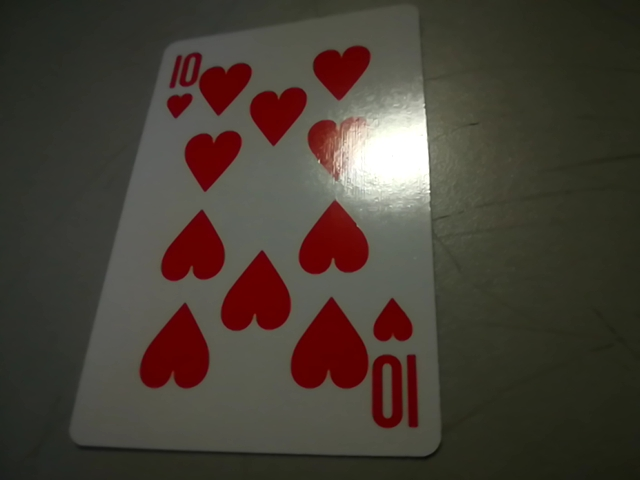hx 10: (358, 289, 434, 446)
